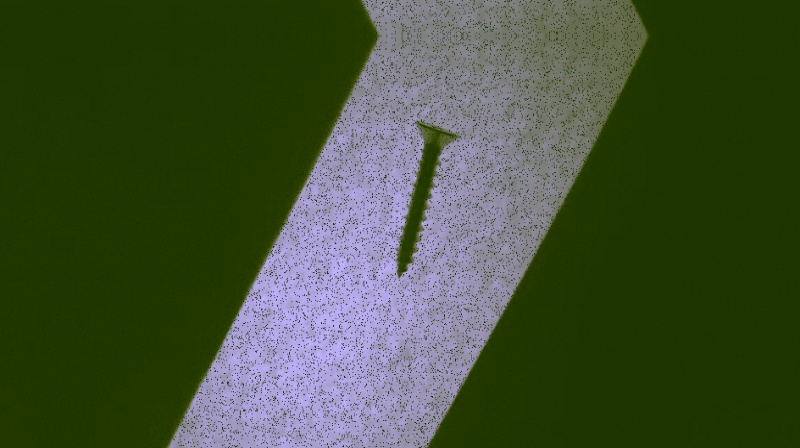S001: (387, 114, 463, 284)
